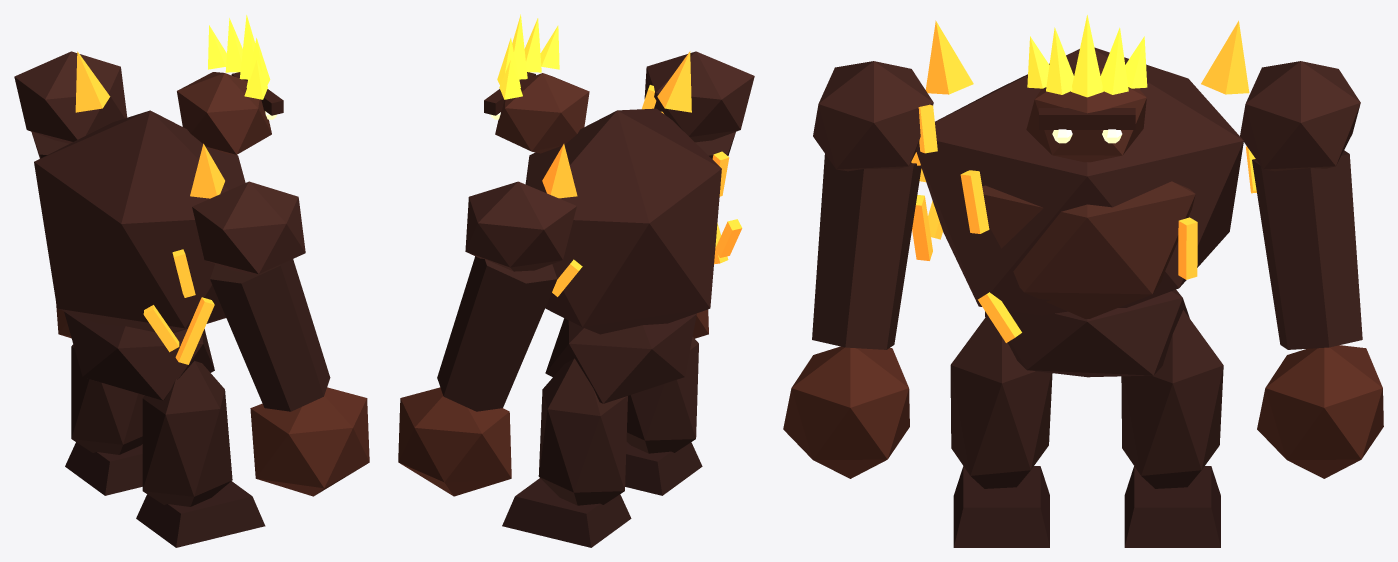
The model's file is colossus.glb.
3 views of the same model, side by side, from view 1: azimuth 30°, elevation 25°; view 2: azimuth 150°, elevation 25°; view 3: azimuth 270°, elevation 25° (orthographic). The views are drawn at different scales.
Visible parts, largest first — view 1: body, arm_r, leg_r, head, leg_l, arm_l; view 2: body, arm_l, leg_l, head, leg_r, arm_r; view 3: body, arm_l, arm_r, leg_r, leg_l, head.
Part boxes in pixels (bbox=[...]): body: bbox=[34, 51, 245, 400]; arm_r: bbox=[192, 181, 369, 496]; leg_r: bbox=[136, 361, 265, 547]; head: bbox=[177, 15, 283, 154]; leg_l: bbox=[65, 344, 144, 495]; arm_l: bbox=[14, 51, 127, 338]; body: bbox=[525, 51, 742, 403]; arm_l: bbox=[398, 181, 576, 496]; leg_l: bbox=[502, 358, 631, 547]; head: bbox=[484, 14, 589, 153]; leg_r: bbox=[625, 337, 702, 495]; arm_r: bbox=[644, 51, 754, 338]; body: bbox=[911, 20, 1256, 377]; arm_l: bbox=[1240, 61, 1383, 478]; arm_r: bbox=[783, 61, 933, 478]; leg_r: bbox=[950, 315, 1052, 547]; leg_l: bbox=[1121, 310, 1223, 547]; head: bbox=[1026, 15, 1147, 162].
Bounding box in the file's own units: 2.41 × 5.03 × 4.93.
